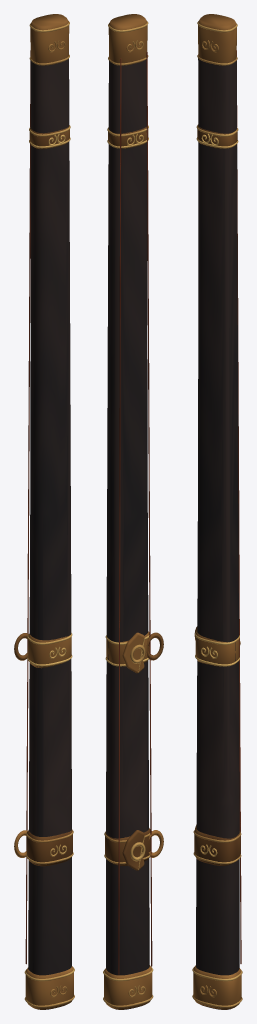
The model's file is tang_dao_scabbard.obj.
3 renders of one model, left to right at view 1: azimuth 30°, elevation 25°; view 2: azimuth 210°, elevation 25°; view 3: azimuth 330°, elevation 25°, orthographic.
Parts seen in each view (by area): view 1: tang_dao_scabbard; view 2: tang_dao_scabbard; view 3: tang_dao_scabbard.
Boxes of the visible parts, box(x1,y1,x2,y2) form: tang_dao_scabbard: box(14, 14, 74, 1009); tang_dao_scabbard: box(103, 14, 163, 1009); tang_dao_scabbard: box(192, 14, 242, 1009).
Size of the model in its own units: 0.1038 by 1.91 by 0.0713.
